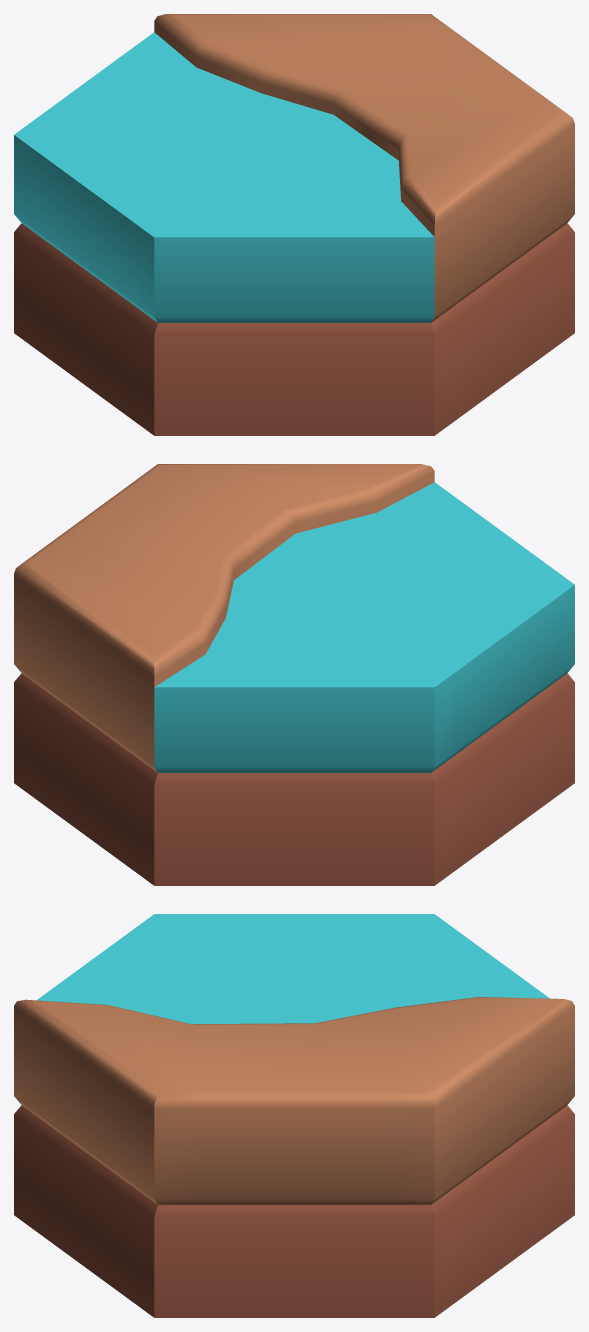
File: hex_rock_waterC_detail.glb
3 views of the same model, one above another, from view 1: azimuth 30°, elevation 25°; view 2: azimuth 150°, elevation 25°; view 3: azimuth 270°, elevation 25° (orthographic).
Parts seen in each view (by area): view 1: hex_rock_waterC_detail; view 2: hex_rock_waterC_detail; view 3: hex_rock_waterC_detail.
Part boxes in pixels (<box>): hex_rock_waterC_detail: <box>14,14,574,435</box>; hex_rock_waterC_detail: <box>14,464,574,885</box>; hex_rock_waterC_detail: <box>14,914,574,1317</box>.
Size of the model in its own units: 2.4 by 1.2 by 2.77.
